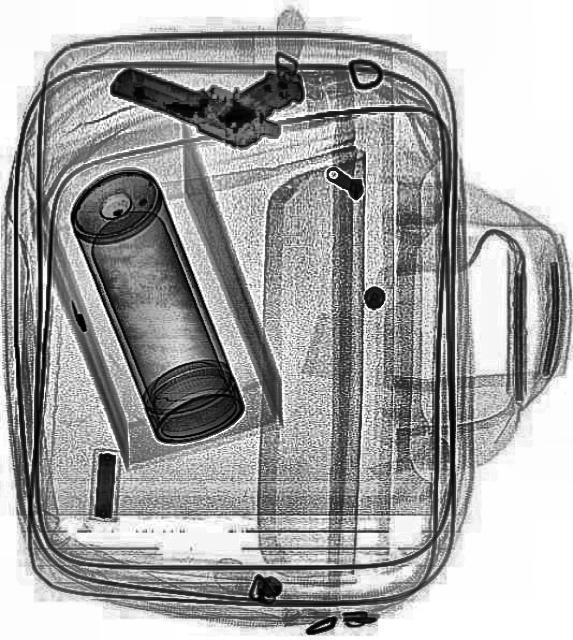Gun: (107, 16, 305, 162)
